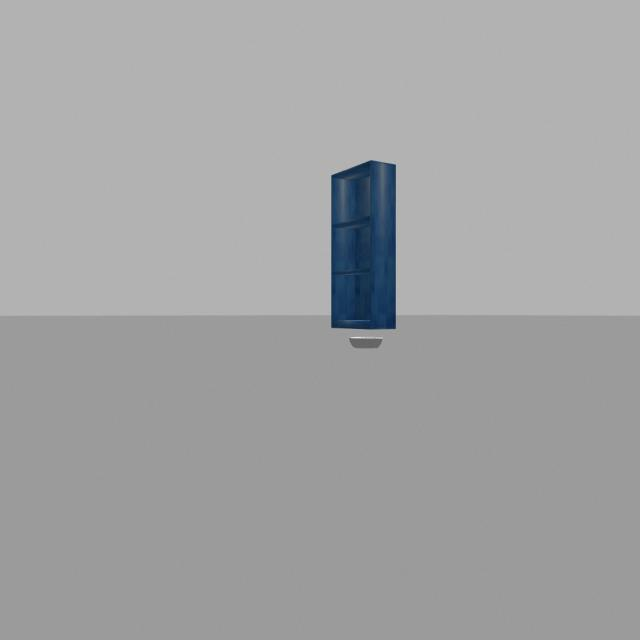bowl: (342, 329, 386, 353)
shelf: (327, 152, 404, 332)
